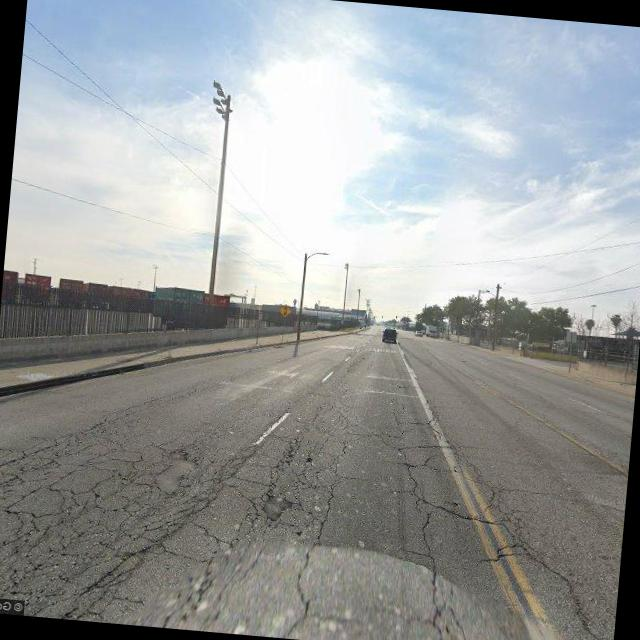crack: (0, 355, 627, 640)
